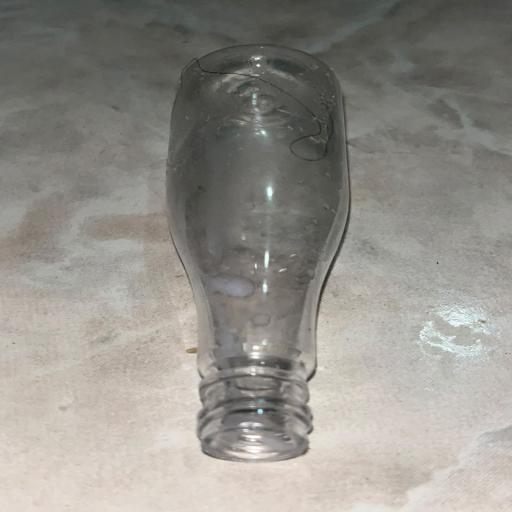PET: (30, 37, 438, 500)
